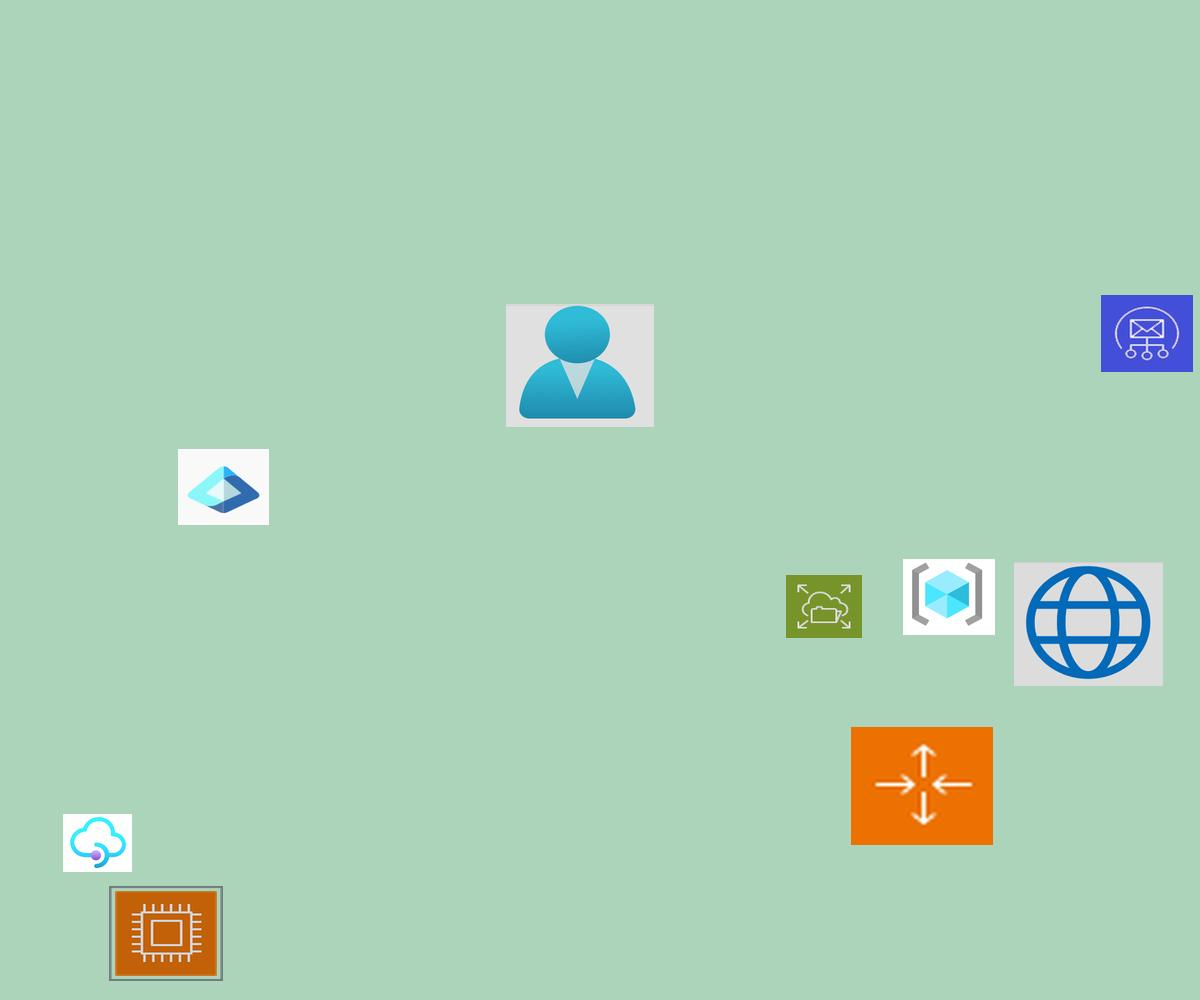AWS-Category_Compute: (109, 886, 223, 981)
AWS-EFS: (786, 575, 862, 638)
AWS-Scaling-group: (851, 727, 993, 845)
AWS-Simple-Email-Service: (1101, 295, 1193, 372)
Azure_api_gateway: (63, 814, 132, 872)
Azure_http: (1014, 562, 1163, 686)
Azure_microsoft_entra: (178, 449, 269, 525)
Azure_resource_group: (903, 559, 995, 635)
Azure_users: (506, 304, 654, 427)
